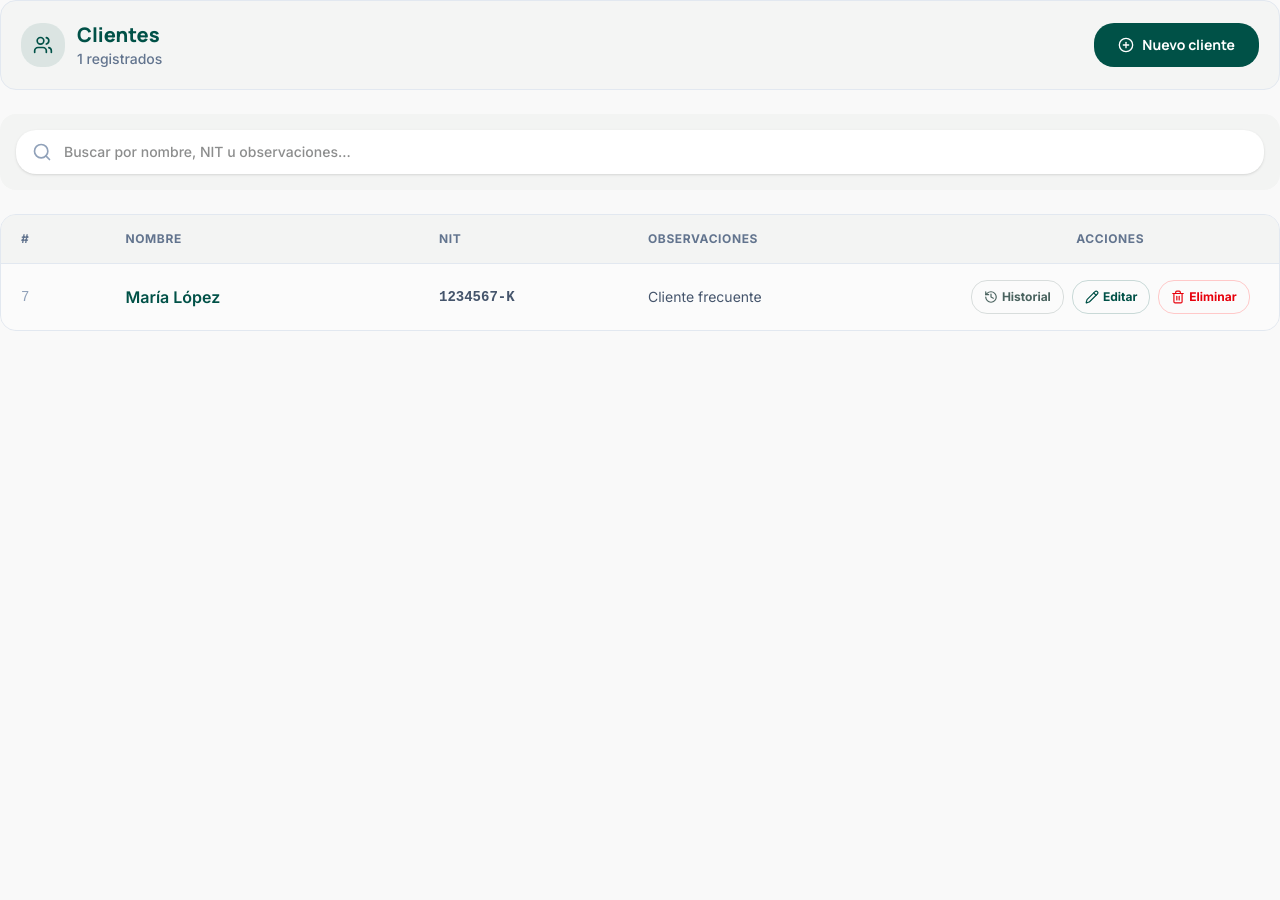
Scenario: Clientes › evita guardar un NIT con formato inválido
This screenshot has width=1280, height=900.
Click the button "Nuevo cliente" at (1177, 45), box [1094, 23, 1259, 67]
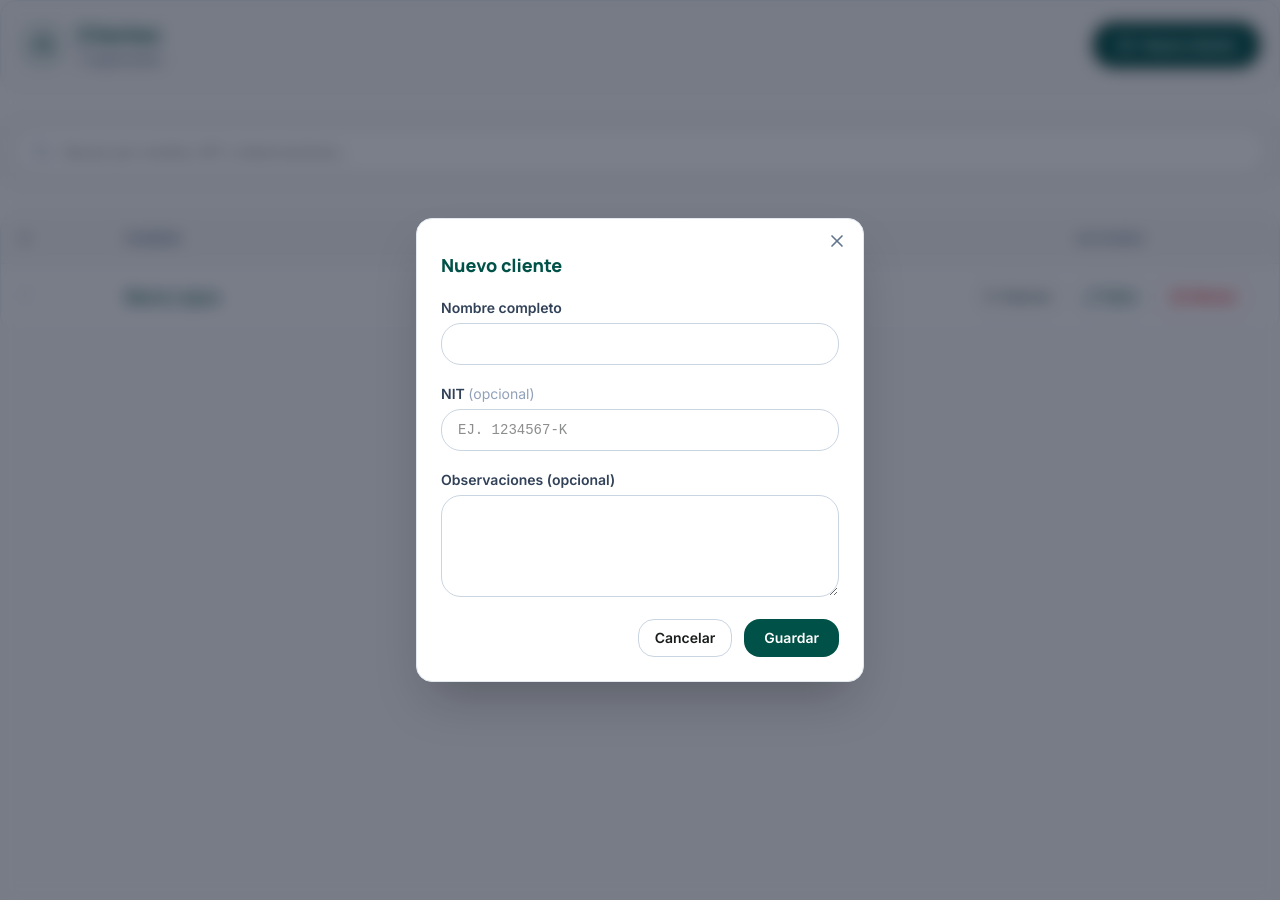
Type "Carlos Pérez" into the field labelled "Nombre completo" at (640, 344), box [441, 323, 839, 365]
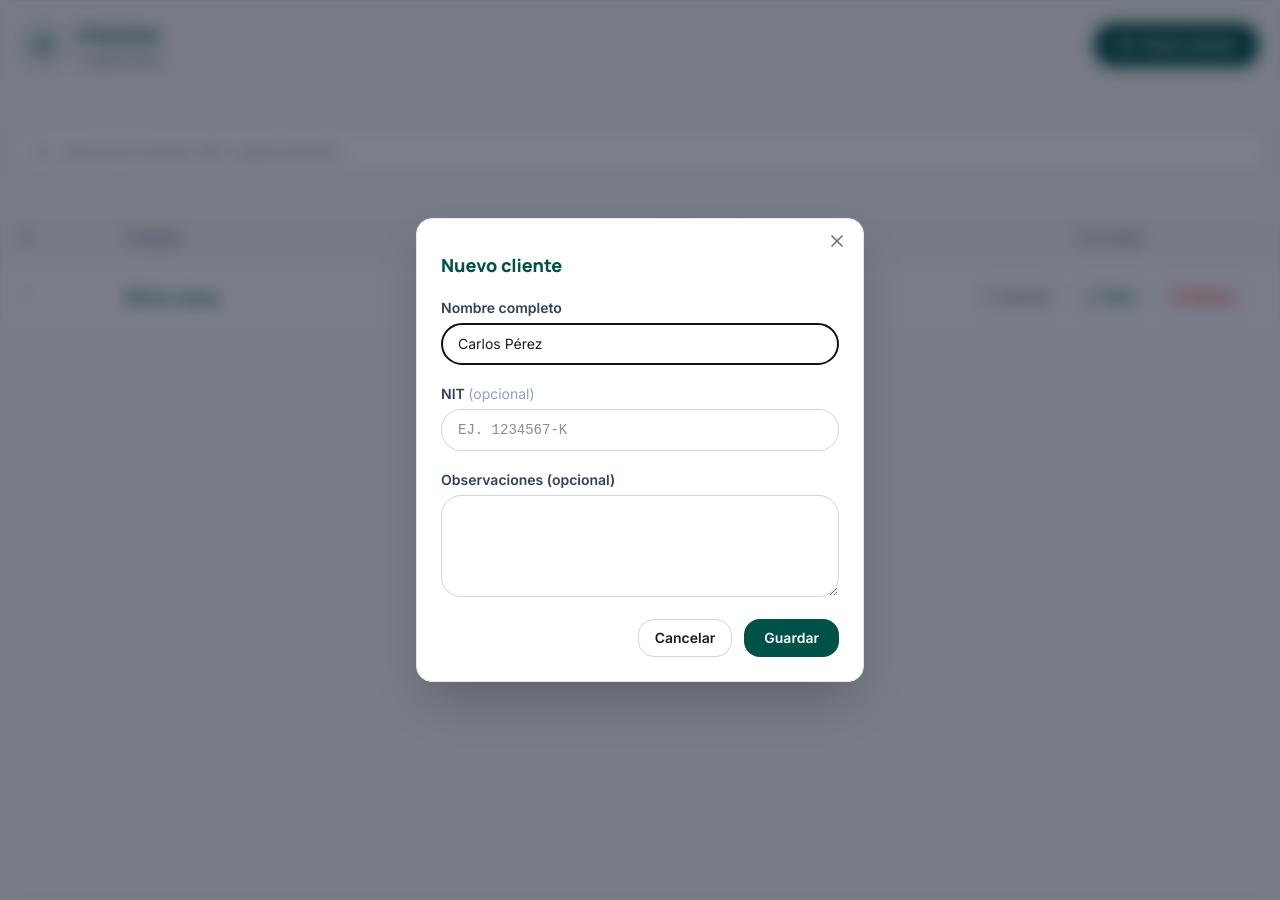
Type "ABC-123" into the field labelled "NIT (opcional)" at (640, 430), box [441, 409, 839, 451]
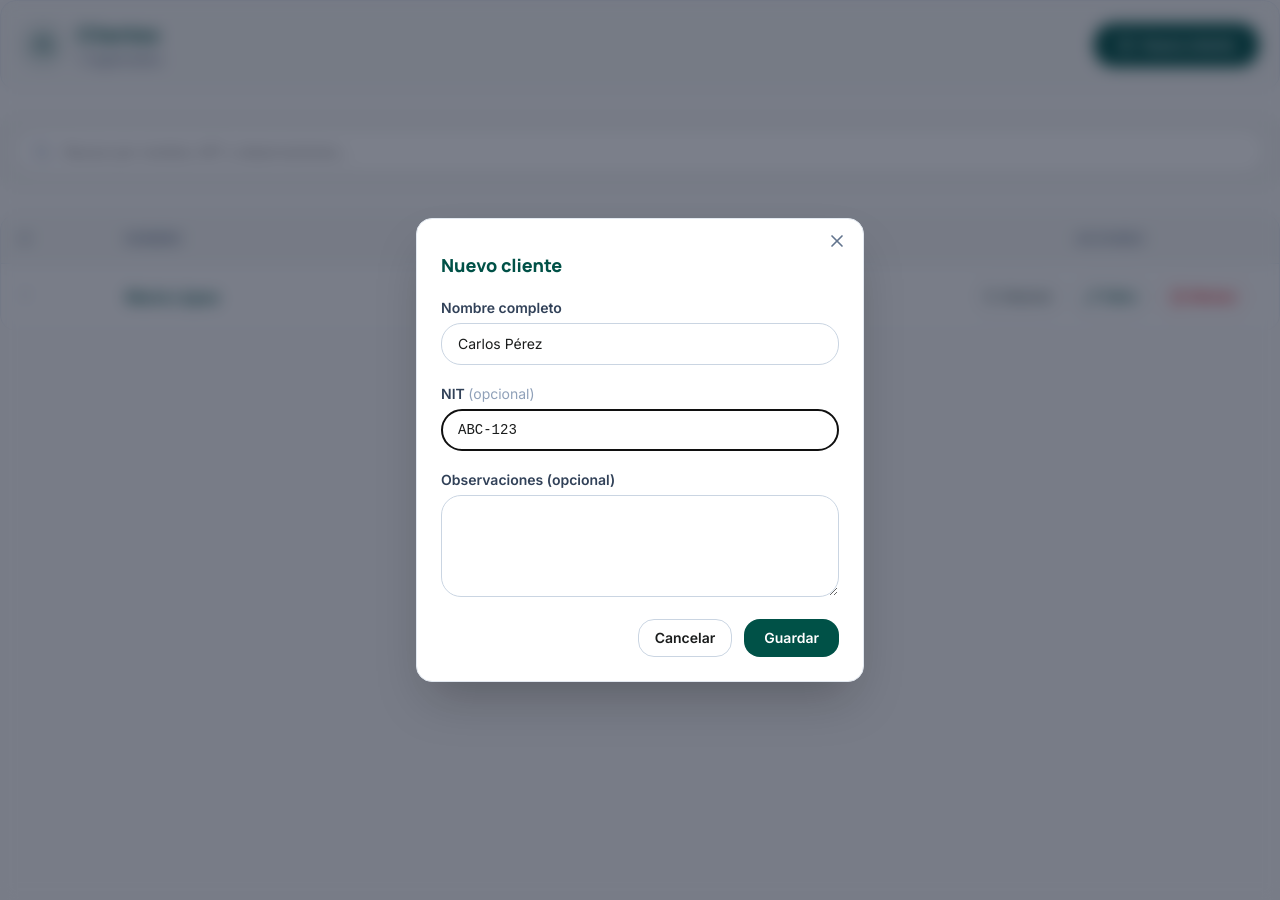
Click the button "Guardar" at (792, 638), box [744, 619, 839, 657]
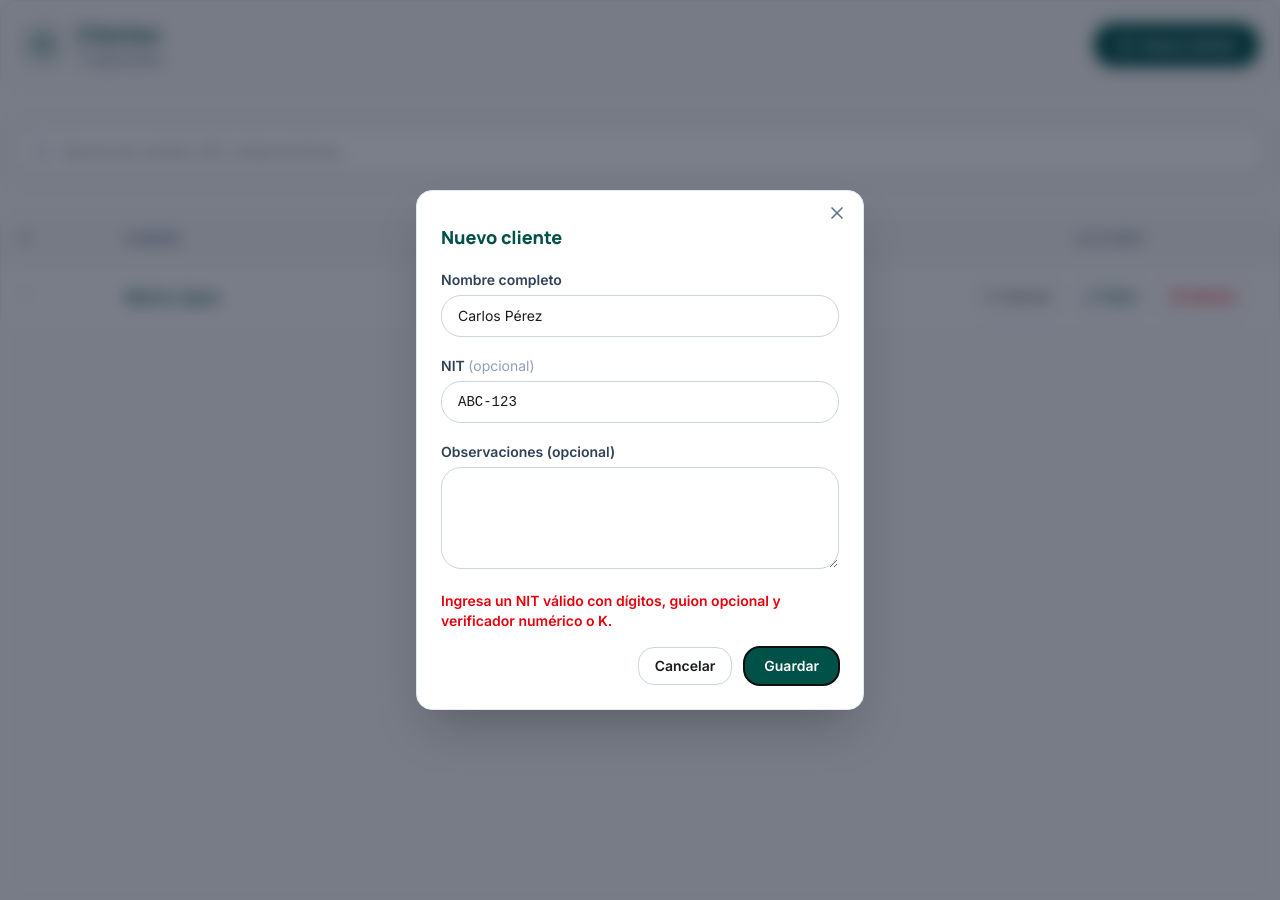
Expected: the text "Ingresa un NIT válido" is shown, [441, 592, 781, 629]
